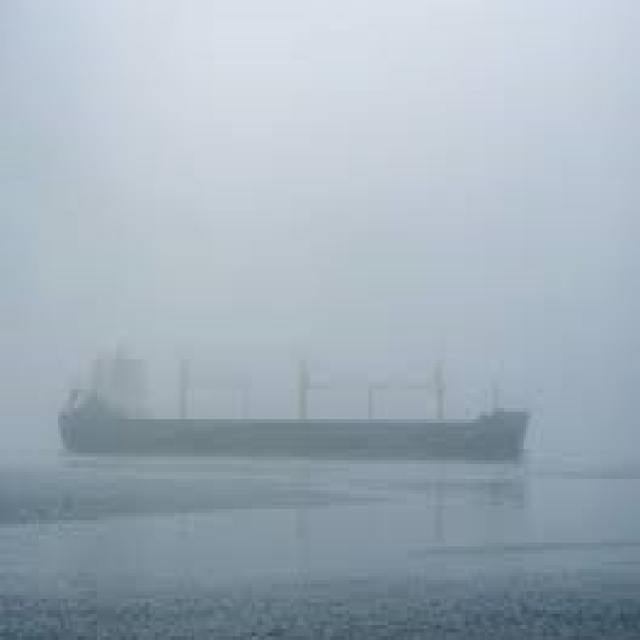cargoship: (61, 336, 526, 466)
